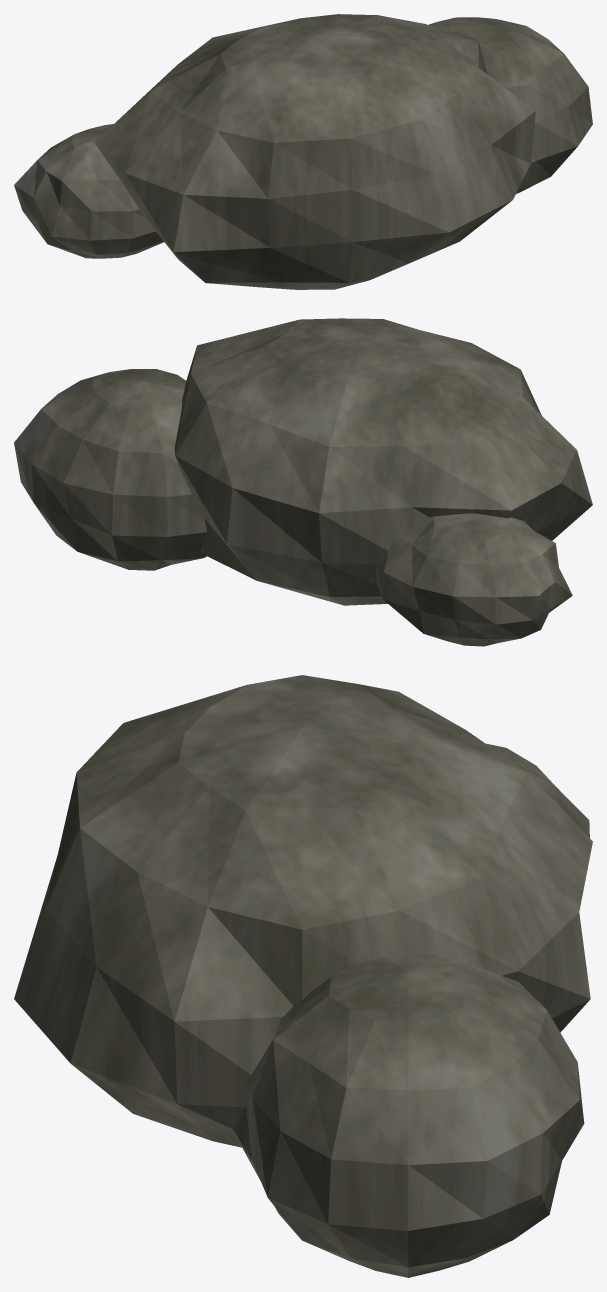
File: veyra_frontier_stone_cluster_01.dae
3 views of the same model, one above another, from view 1: azimuth 30°, elevation 25°; view 2: azimuth 150°, elevation 25°; view 3: azimuth 270°, elevation 25° (orthographic). The views are drawn at different scales.
Visible parts, largest first — view 1: g0-node; view 2: g0-node; view 3: g0-node.
Boxes of the visible parts, x1,y1,x2,y2 form: g0-node: [14, 14, 592, 289]; g0-node: [14, 318, 592, 646]; g0-node: [14, 675, 592, 1277].
Bounding box in the file's own units: 376 × 218 × 160.
